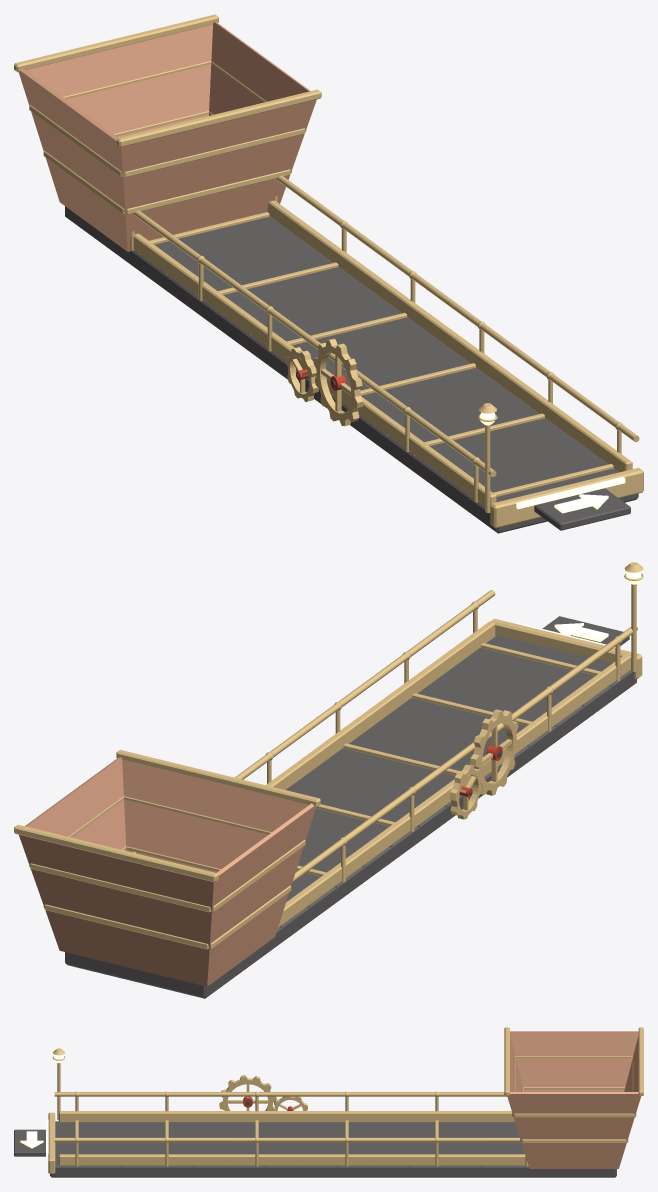
File: dispenser.glb
3 renders of one model, top to bottom at view 1: azimuth 30°, elevation 25°; view 2: azimuth 150°, elevation 25°; view 3: azimuth 270°, elevation 25°, orthographic. The views are drawn at different scales.
Parts seen in each view (by area): view 1: dispenser, feed_gear; view 2: dispenser, feed_gear; view 3: dispenser, feed_gear.
Boxes of the visible parts, bbox=[...] form: dispenser: bbox=[14, 14, 643, 533]; feed_gear: bbox=[313, 338, 363, 426]; dispenser: bbox=[14, 562, 643, 998]; feed_gear: bbox=[470, 709, 519, 795]; dispenser: bbox=[14, 1027, 643, 1177]; feed_gear: bbox=[219, 1075, 276, 1110].
Size of the model in its own units: 1.7 by 1.18 by 7.
